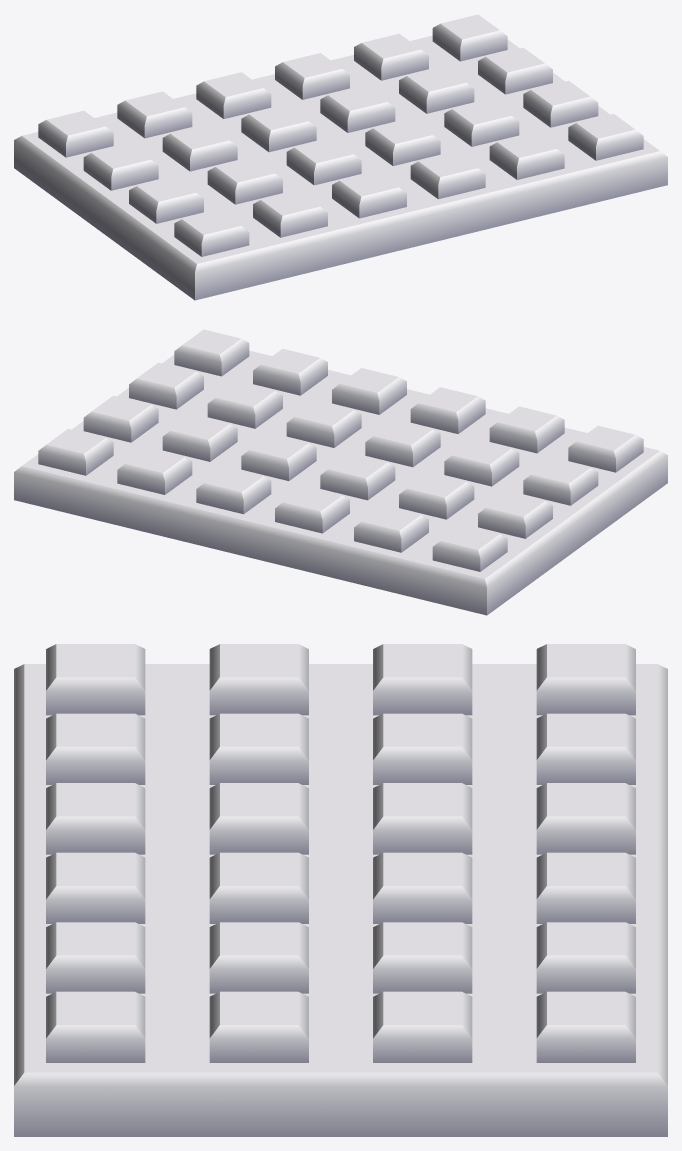
File: kenney-brick-square-hq-plate-4-x-6.glb
3 renders of one model, top to bottom at view 1: azimuth 30°, elevation 25°; view 2: azimuth 150°, elevation 25°; view 3: azimuth 270°, elevation 25°, orthographic. The views are drawn at different scales.
Visible parts, largest first — view 1: square-hq-plate-4x6; view 2: square-hq-plate-4x6; view 3: square-hq-plate-4x6.
Part boxes in pixels (box(x1,y1,x2,y2)): square-hq-plate-4x6: box(14, 14, 667, 300); square-hq-plate-4x6: box(14, 329, 667, 615); square-hq-plate-4x6: box(14, 644, 667, 1136).
Size of the model in its own units: 0.477 by 0.05 by 0.316.
Materials: 1 (1 with a texture image).
